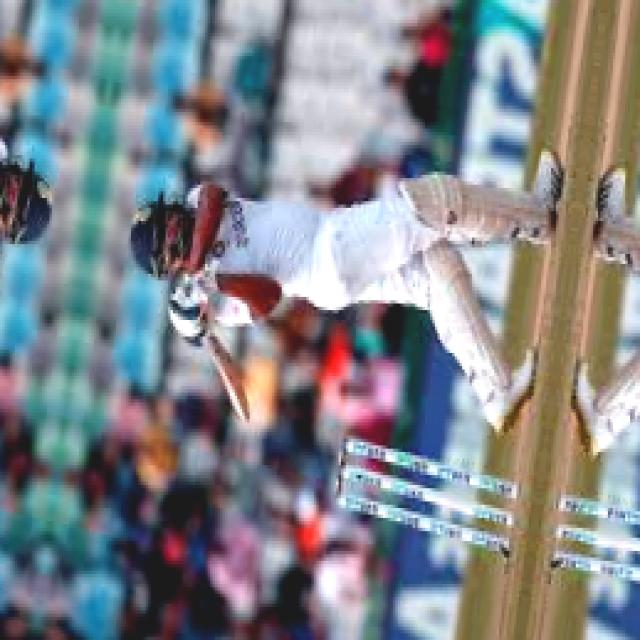toe: (230, 391, 256, 427)
